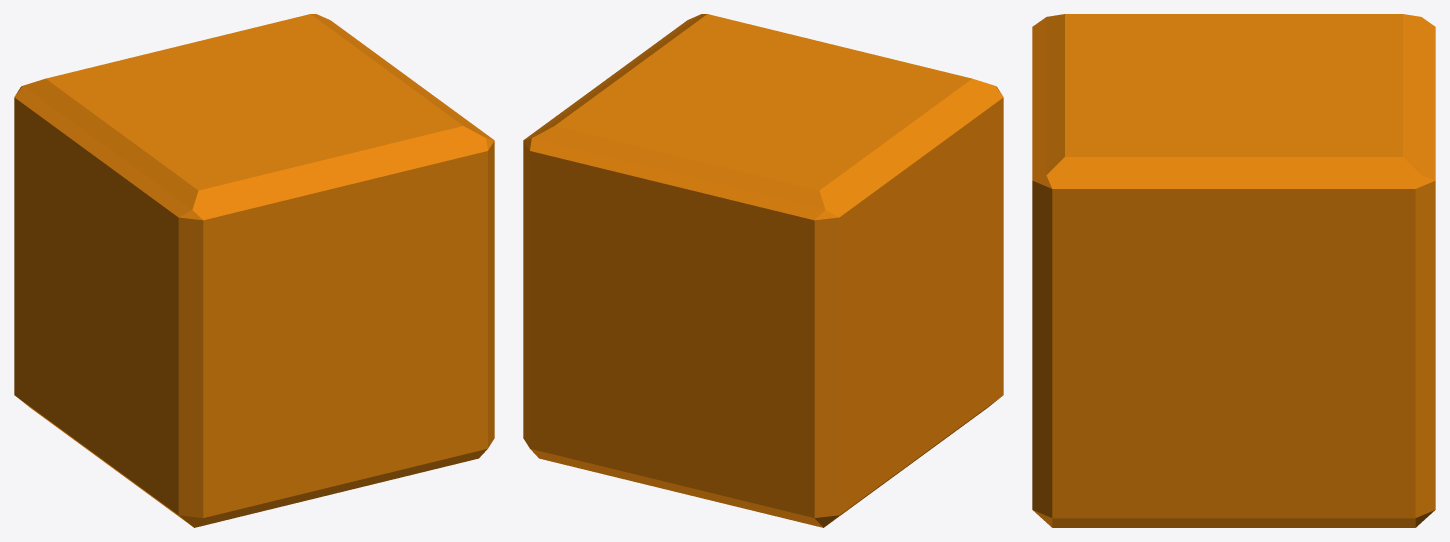
File: tile.glb
3 renders of one model, left to right at view 1: azimuth 30°, elevation 25°; view 2: azimuth 150°, elevation 25°; view 3: azimuth 270°, elevation 25°, orthographic. The views are drawn at different scales.
Visible parts, largest first — view 1: Block; view 2: Block; view 3: Block.
Part boxes in pixels (box(x1,y1,x2,y2)): Block: box(14, 14, 494, 527); Block: box(523, 14, 1003, 527); Block: box(1032, 14, 1435, 527).
Size of what is drawn, in the model's own units: 2 by 2 by 2.
